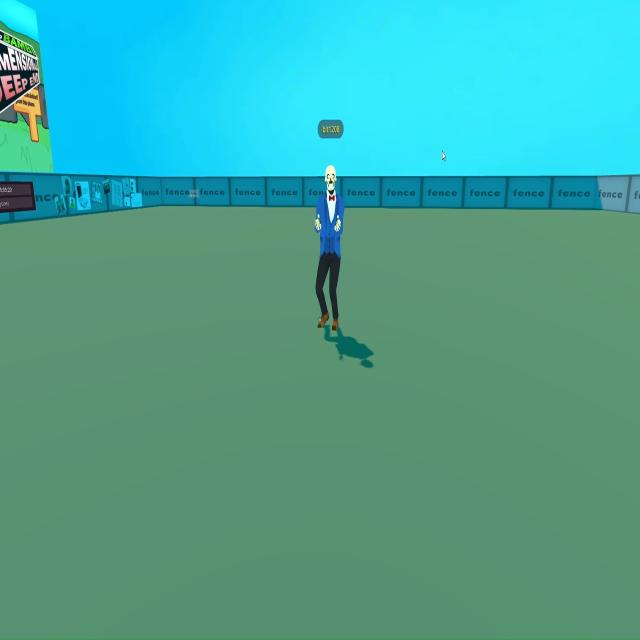human: (307, 157, 351, 339)
